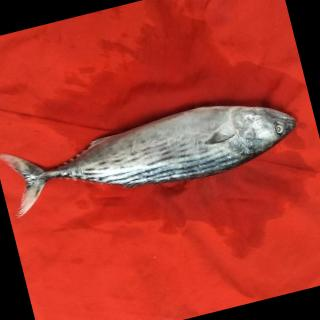Ikan: (1, 55, 313, 247)
